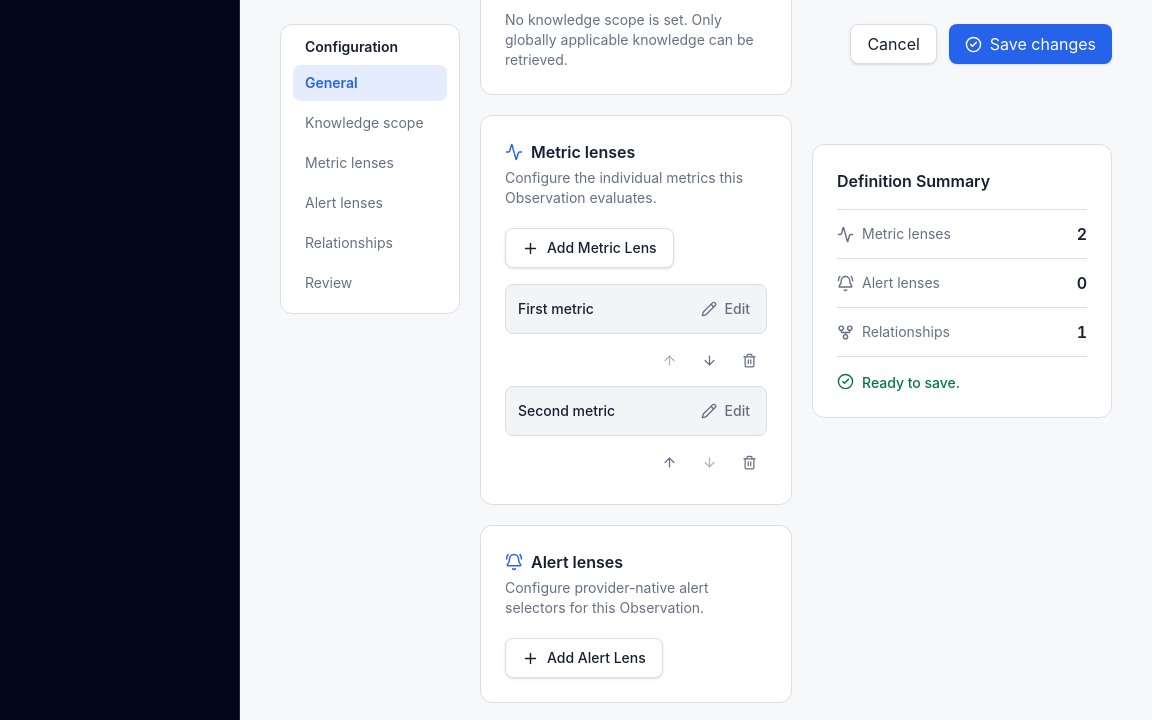
it: Observation aggregate editing › blocks saving a Relationship made invalid by Metric Lens removal without mutating its rule or sending PUT
The image size is (1152, 720).
(page scrolled)
Click the button named "Remove First metric" at x=749, y=360, box [731,342,767,378]
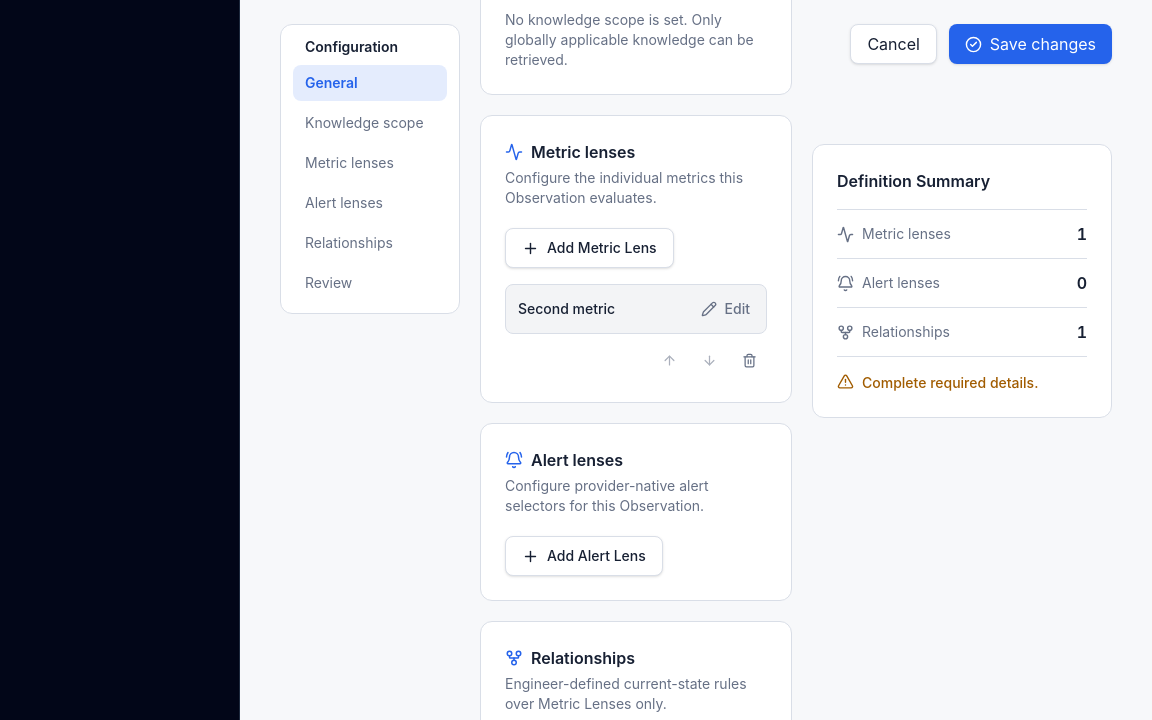
Click the button "Save changes" at x=1030, y=44, box [949,24,1112,64]
(page scrolled)
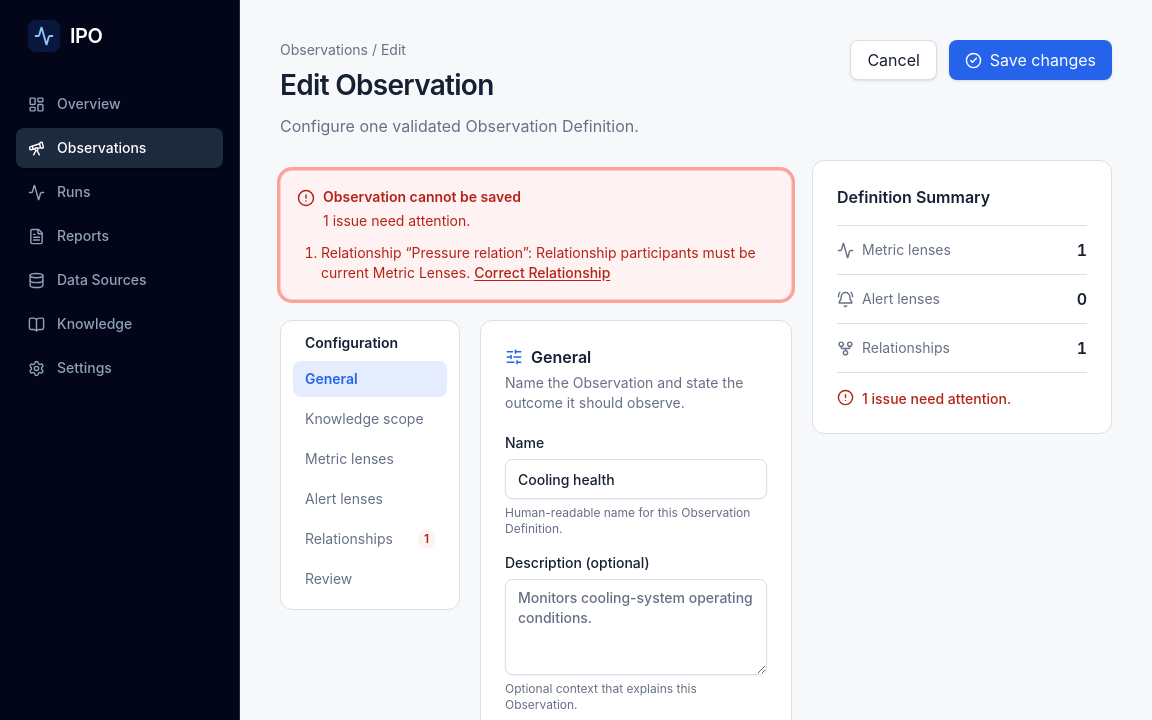
Expected: the list item "Relationship participants must be current Metric Lenses" is shown, [321,244,756,281]
